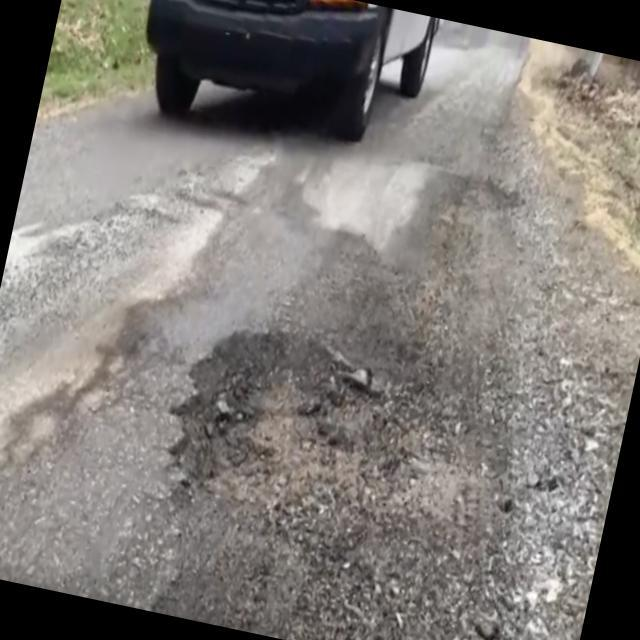Pothole: (156, 291, 434, 578)
